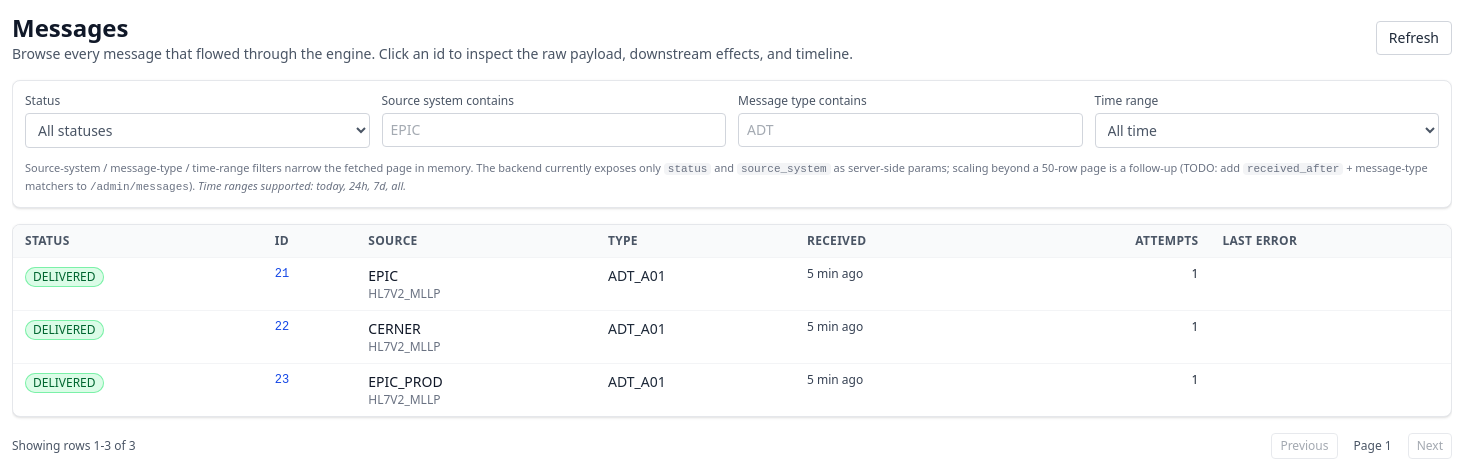
Test: MessagesListView (ticket #402) › the source-system filter narrows rendered rows (contains, case-insensitive)
Expected: the row with test id "messages-row-21" is shown, [13,258,1451,310]
Type "epic" into the field with test id "messages-filter-source" at coordinates (554, 130), box [382,113,726,147]
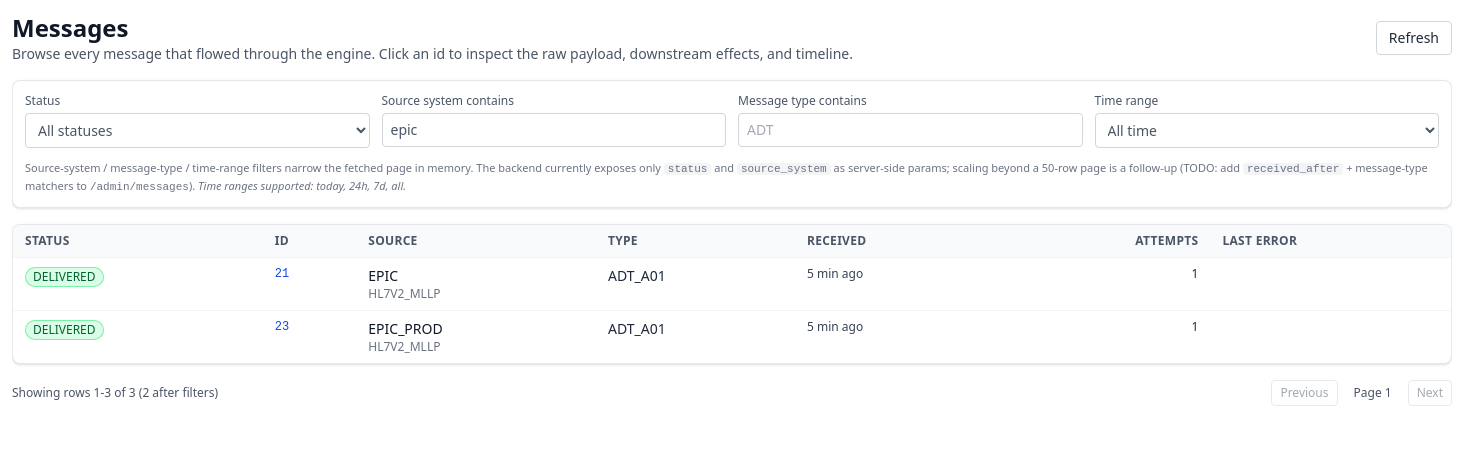
Expected: the row with test id "messages-row-21" is shown, [13,258,1451,310]
Expected: the row with test id "messages-row-22" is gone
